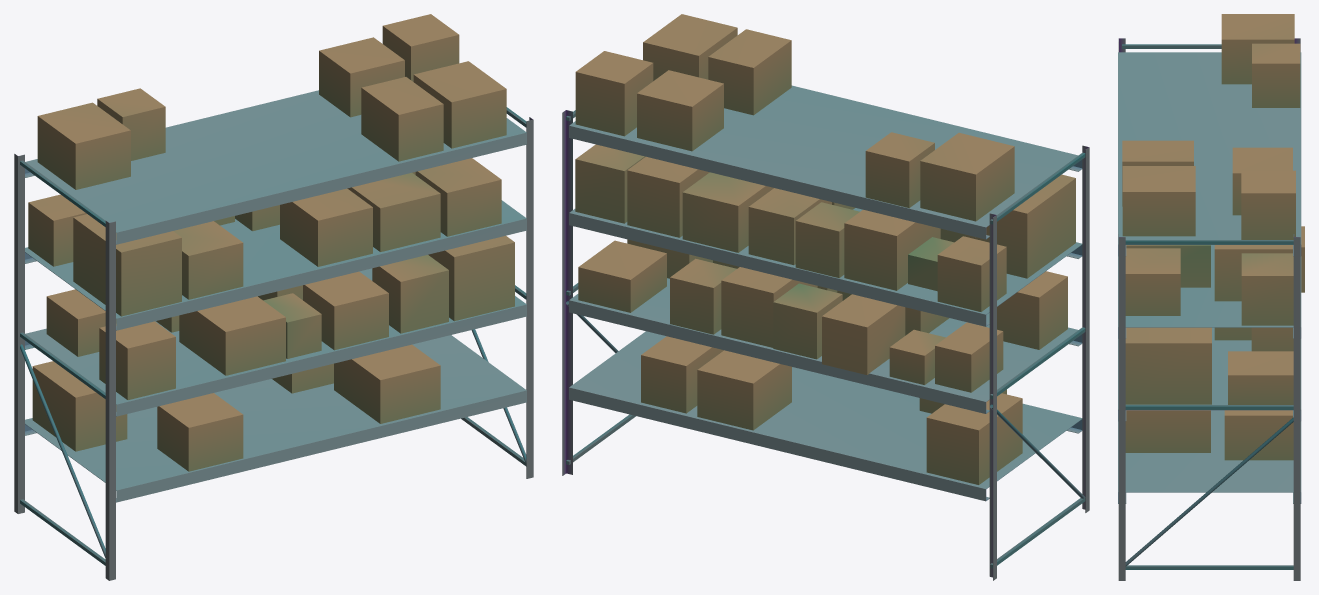
Rendered from simready-rack_composition_l09.glb.
3 renders of one model, left to right at view 1: azimuth 30°, elevation 25°; view 2: azimuth 150°, elevation 25°; view 3: azimuth 270°, elevation 25°, orthographic. The views are drawn at different scales.
Parts seen in each view (by area): view 1: shelf_sheet.003, shelf_sheet, shelf_sheet.002, shelf_sheet.001, cardboard_carton.016, cardboard_carton.029, cardboard_carton.004, cardboard_carton.006, cardboard_carton.018, cardboard_carton.033, cardboard_carton.003, cardboard_carton.034 (+20 smaller); view 2: shelf_sheet.003, shelf_sheet, shelf_sheet.001, shelf_sheet.002, cardboard_carton.029, cardboard_carton, cardboard_carton.001, cardboard_carton.031, cardboard_carton.016, cardboard_carton.033, cardboard_carton.013, cardboard_carton.023 (+25 smaller); view 3: shelf_sheet.003, shelf_sheet, cardboard_carton.010, cardboard_carton.034, cardboard_carton.028, cardboard_carton.032, cardboard_carton.020, cardboard_carton.004, middle_carton.001, cardboard_carton.029, shelf_sheet.002, cardboard_carton.002 (+16 smaller).
Part boxes in pixels (x1,y1,x2,y2): shelf_sheet.003: (25, 90, 526, 244); shelf_sheet: (25, 335, 526, 502); shelf_sheet.002: (25, 200, 526, 330); shelf_sheet.001: (25, 268, 526, 416); cardboard_carton.016: (73, 214, 181, 316); cardboard_carton.029: (37, 102, 130, 189); cardboard_carton.004: (334, 344, 440, 423); cardboard_carton.006: (179, 296, 285, 375); cardboard_carton.018: (280, 188, 372, 266); cardboard_carton.033: (361, 77, 443, 161); cardboard_carton.003: (157, 393, 243, 471); cardboard_carton.034: (413, 61, 506, 148); shelf_sheet.003: (569, 85, 1082, 239); shelf_sheet: (569, 331, 1082, 501); shelf_sheet.001: (569, 278, 1082, 413); shelf_sheet.002: (569, 208, 1082, 326); cardboard_carton.029: (920, 132, 1014, 221); cardboard_carton: (926, 393, 1022, 484); cardboard_carton.001: (697, 350, 791, 430); cardboard_carton.031: (637, 70, 723, 151); cardboard_carton.016: (965, 174, 1075, 278); cardboard_carton.033: (708, 29, 791, 115); cardboard_carton.013: (822, 294, 905, 374); cardboard_carton.023: (844, 209, 940, 290); shelf_sheet.003: (1118, 52, 1301, 256); shelf_sheet: (1118, 410, 1301, 503); cardboard_carton.010: (1125, 327, 1211, 404); cardboard_carton.034: (1122, 166, 1195, 236); cardboard_carton.028: (1241, 253, 1293, 325); cardboard_carton.032: (1241, 170, 1295, 239); cardboard_carton.020: (1125, 248, 1180, 315); cardboard_carton.004: (1125, 410, 1210, 452); middle_carton.001: (1228, 351, 1293, 404); cardboard_carton.029: (1221, 14, 1294, 84); shelf_sheet.002: (1118, 245, 1301, 338); cardboard_carton.002: (1224, 410, 1293, 460).
Size of the model in its own units: 3.1 by 2.78 by 1.23.
